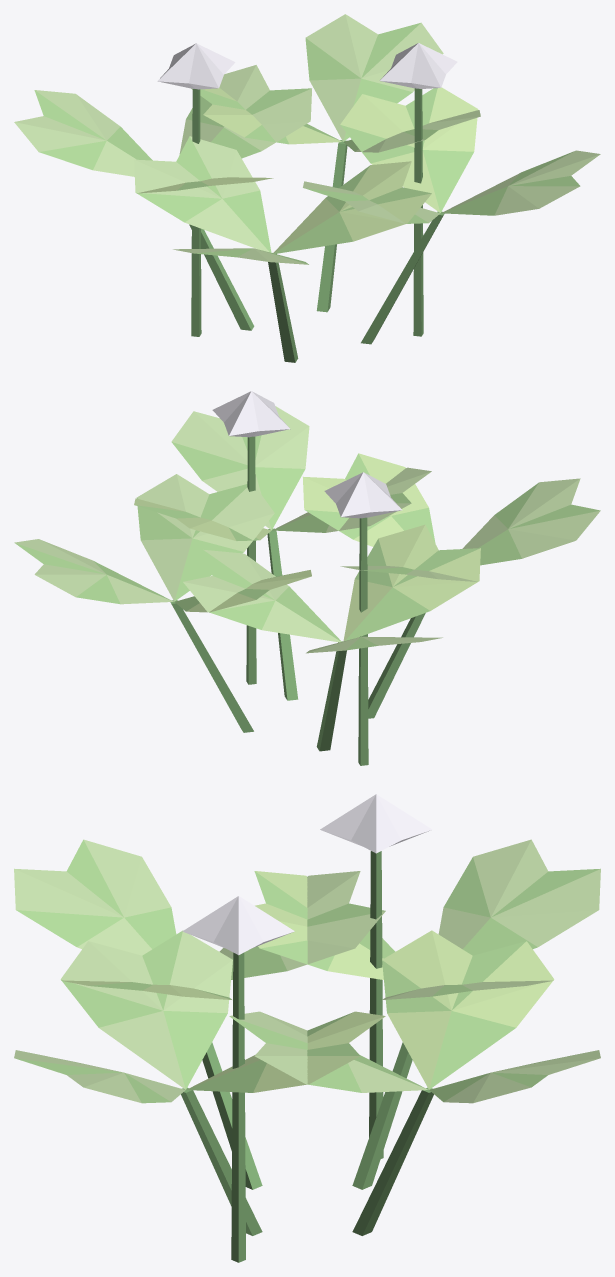
File: crop_clover_s3.glb
3 renders of one model, top to bottom at view 1: azimuth 30°, elevation 25°; view 2: azimuth 150°, elevation 25°; view 3: azimuth 270°, elevation 25°, orthographic. The views are drawn at different scales.
Visible parts, largest first — view 1: crop_clover_s3; view 2: crop_clover_s3; view 3: crop_clover_s3.
Part boxes in pixels (box(x1,y1,x2,y2)): crop_clover_s3: box(14, 14, 600, 362); crop_clover_s3: box(14, 391, 600, 765); crop_clover_s3: box(14, 794, 600, 1262).
Size of the model in its own units: 0.478 by 0.327 by 0.478.
